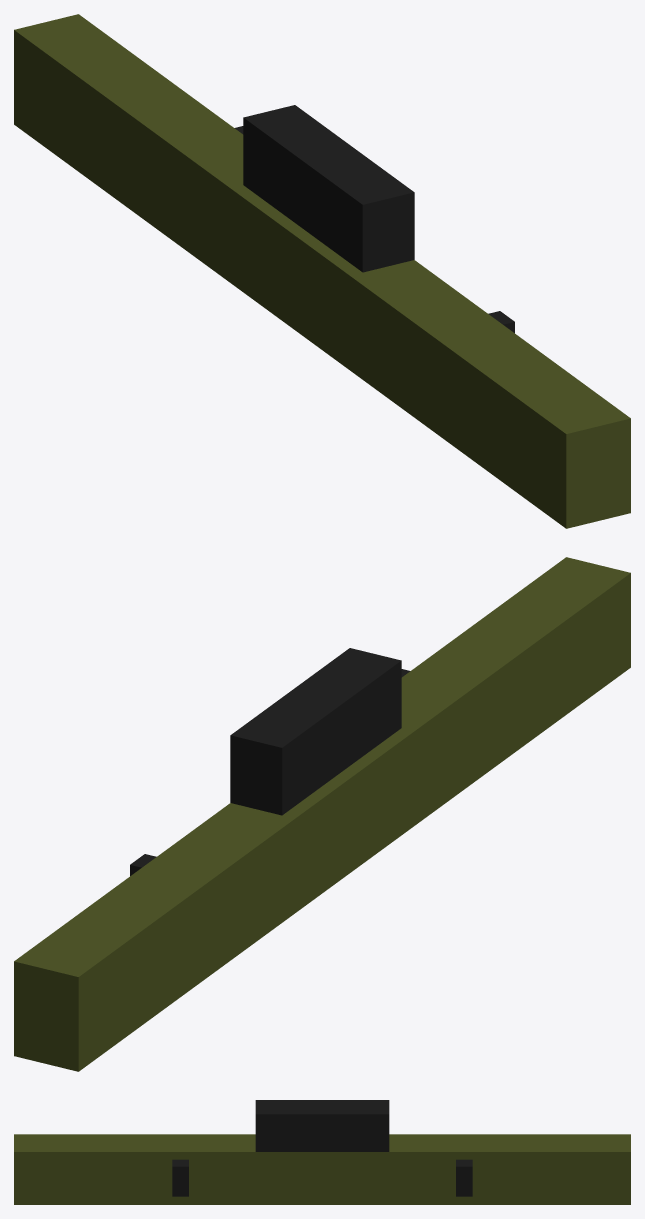
File: military_cargo_truck_front_bumper.glb
The picture shows the model from 3 angles, top to bottom: view 1: azimuth 30°, elevation 25°; view 2: azimuth 150°, elevation 25°; view 3: azimuth 270°, elevation 25°; orthographic projection. The views are drawn at different scales.
Visible parts, largest first — view 1: body:compound; view 2: body:compound; view 3: body:compound.
Part boxes in pixels (x1,y1,x2,y2): body:compound: (14,14,630,528); body:compound: (14,557,630,1071); body:compound: (14,1100,630,1204).
Size of the model in its own units: 0.2188 by 0.375 by 2.31.
